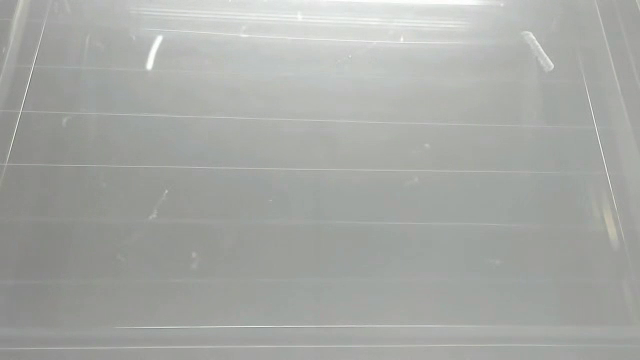alpha: (516, 28, 557, 74), (142, 33, 167, 75)
